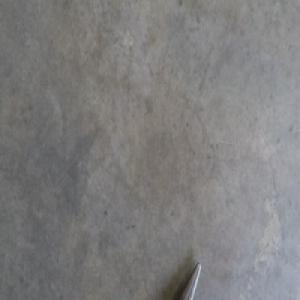Pliers: (178, 263, 202, 298)
